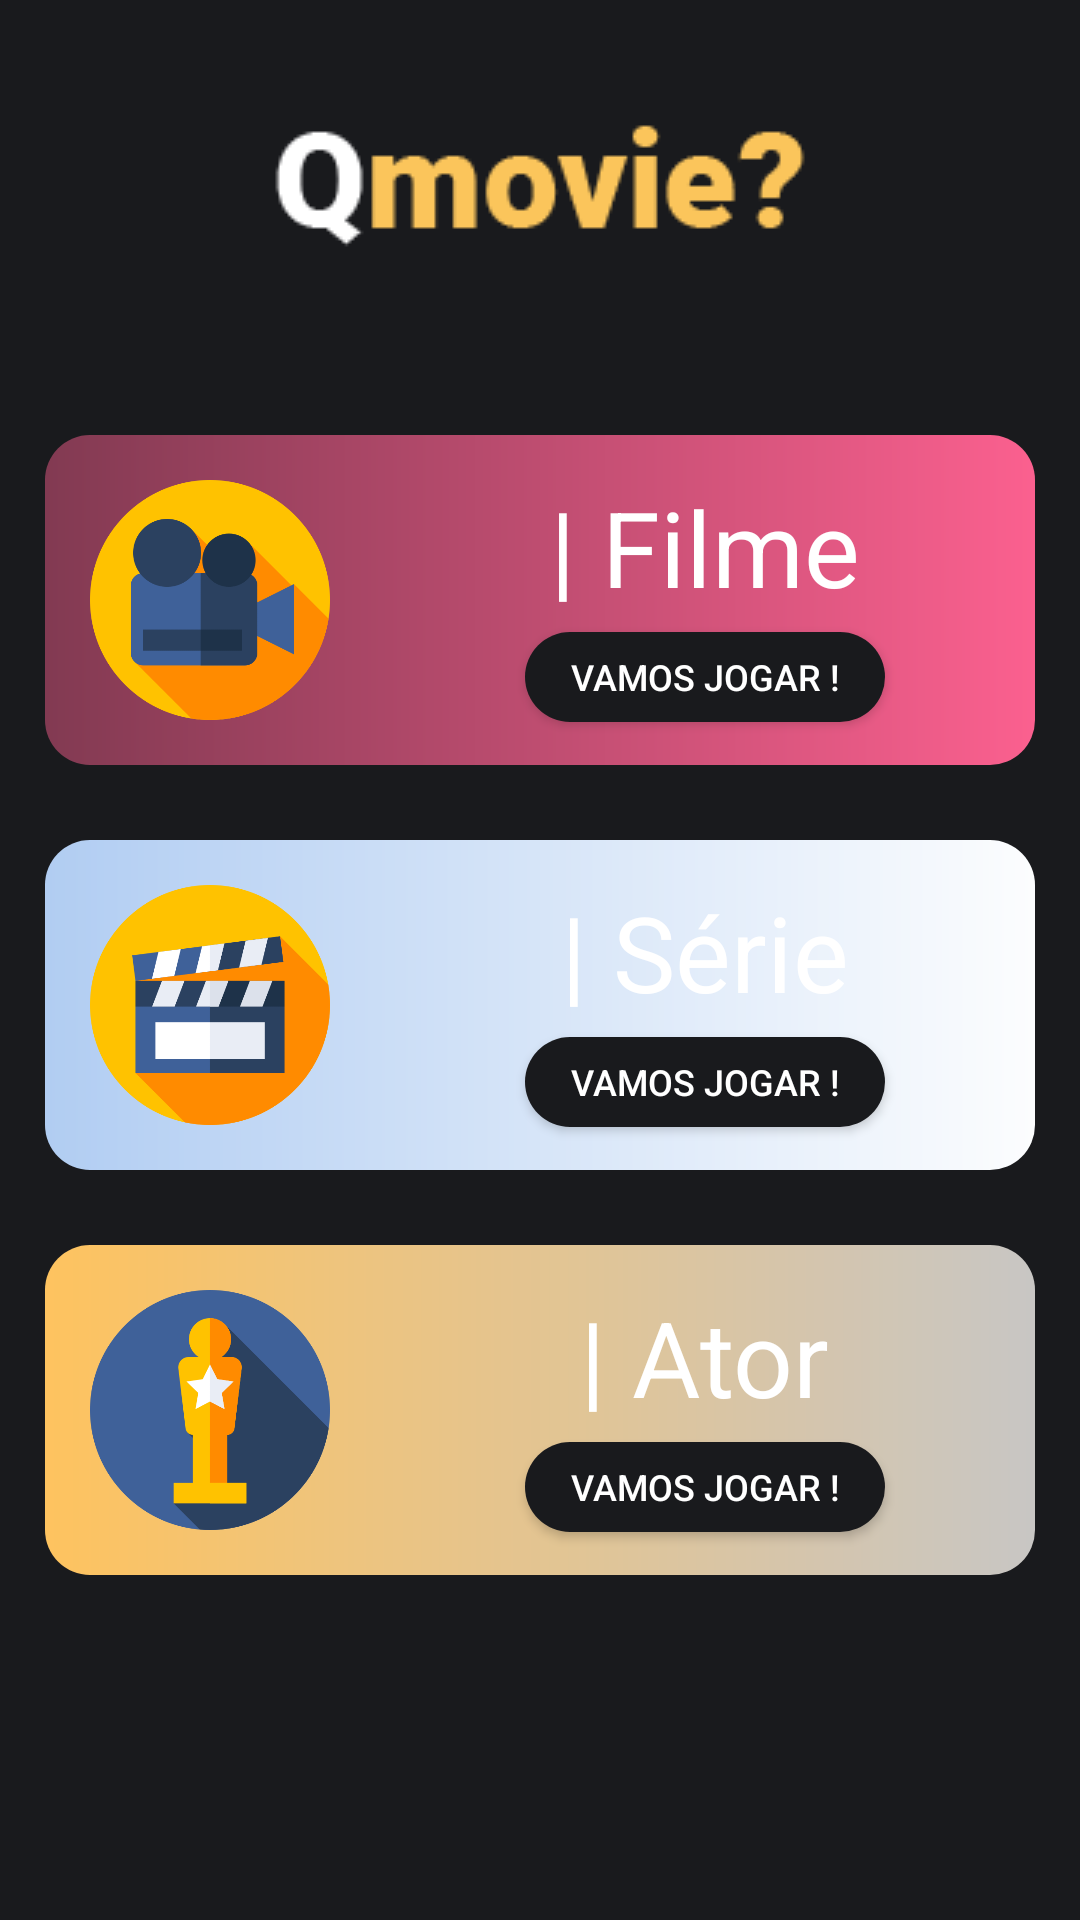

Screen size 1080 × 1920. Icon name, then its center in pixels as (x,y):
ator: (210,1410)
filme: (210,600)
